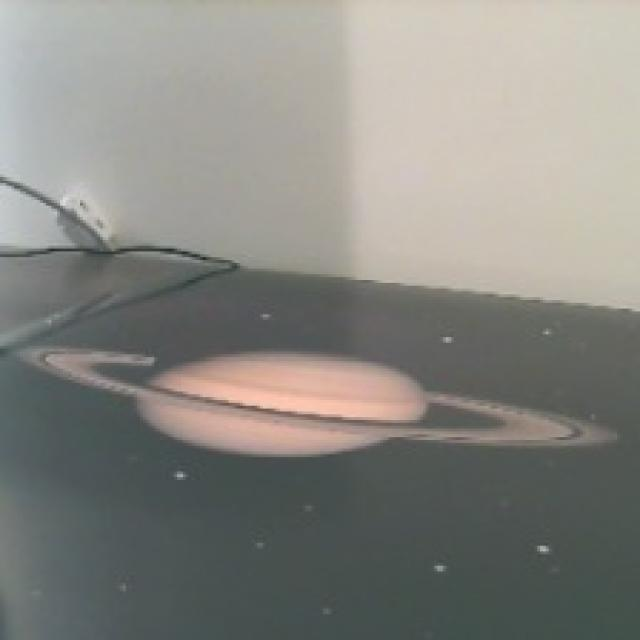Saturn: (21, 332, 621, 462)
